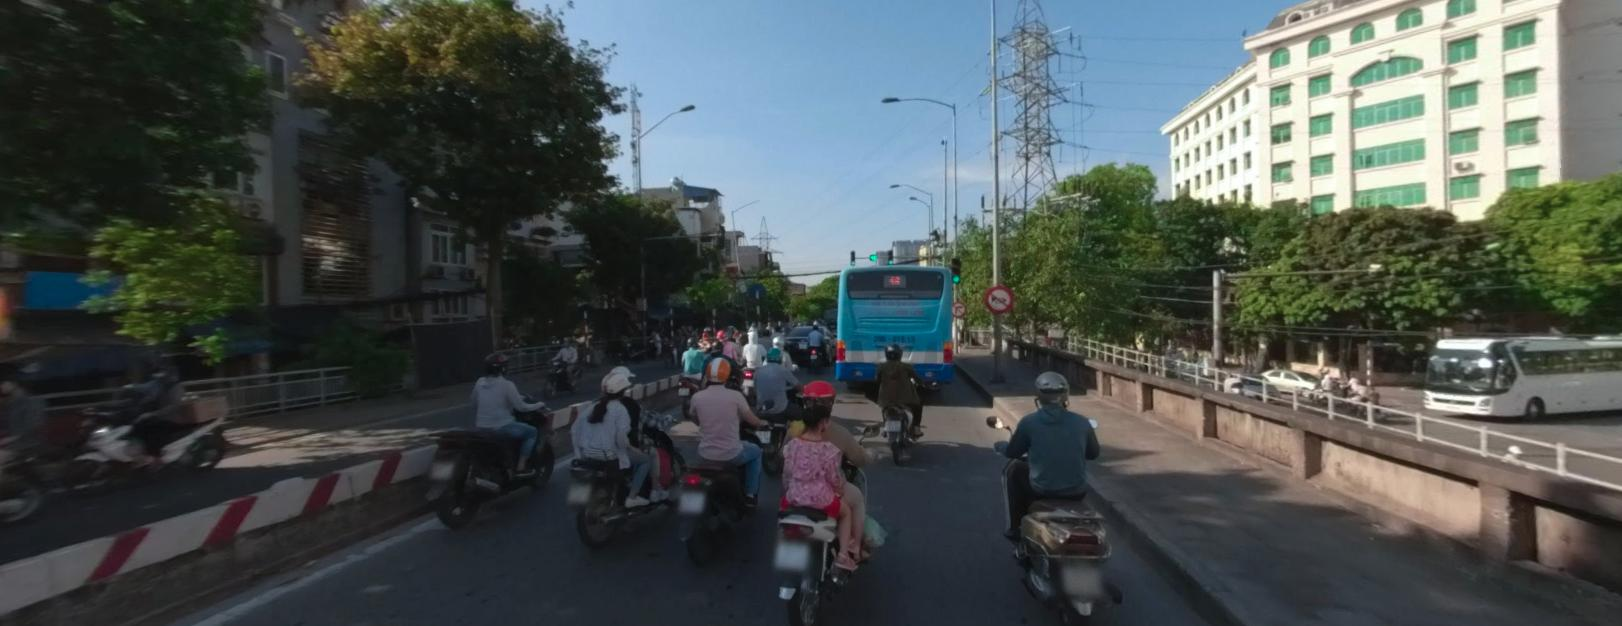Cam con lai: (984, 284, 1013, 311)
Cam re: (951, 300, 966, 315)
